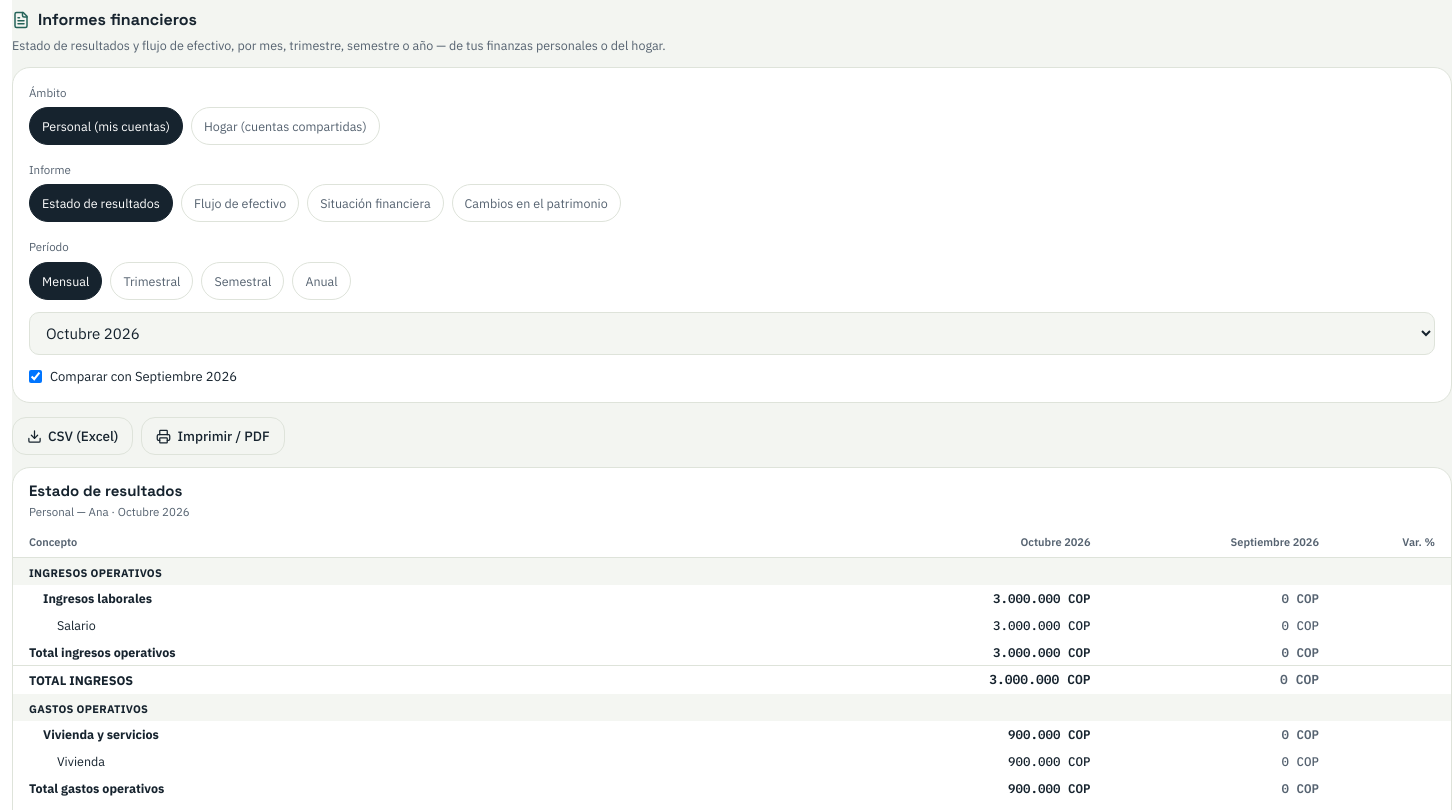
it: Informes (prueba de humo) › la situación financiera muestra activos, pasivos y patrimonio (incluye un activo registrado)
What coordinates should you click on to do the following:
click the button "Situación financiera"
I would click on:
 (375, 203)
Its box is [307,184,444,222].
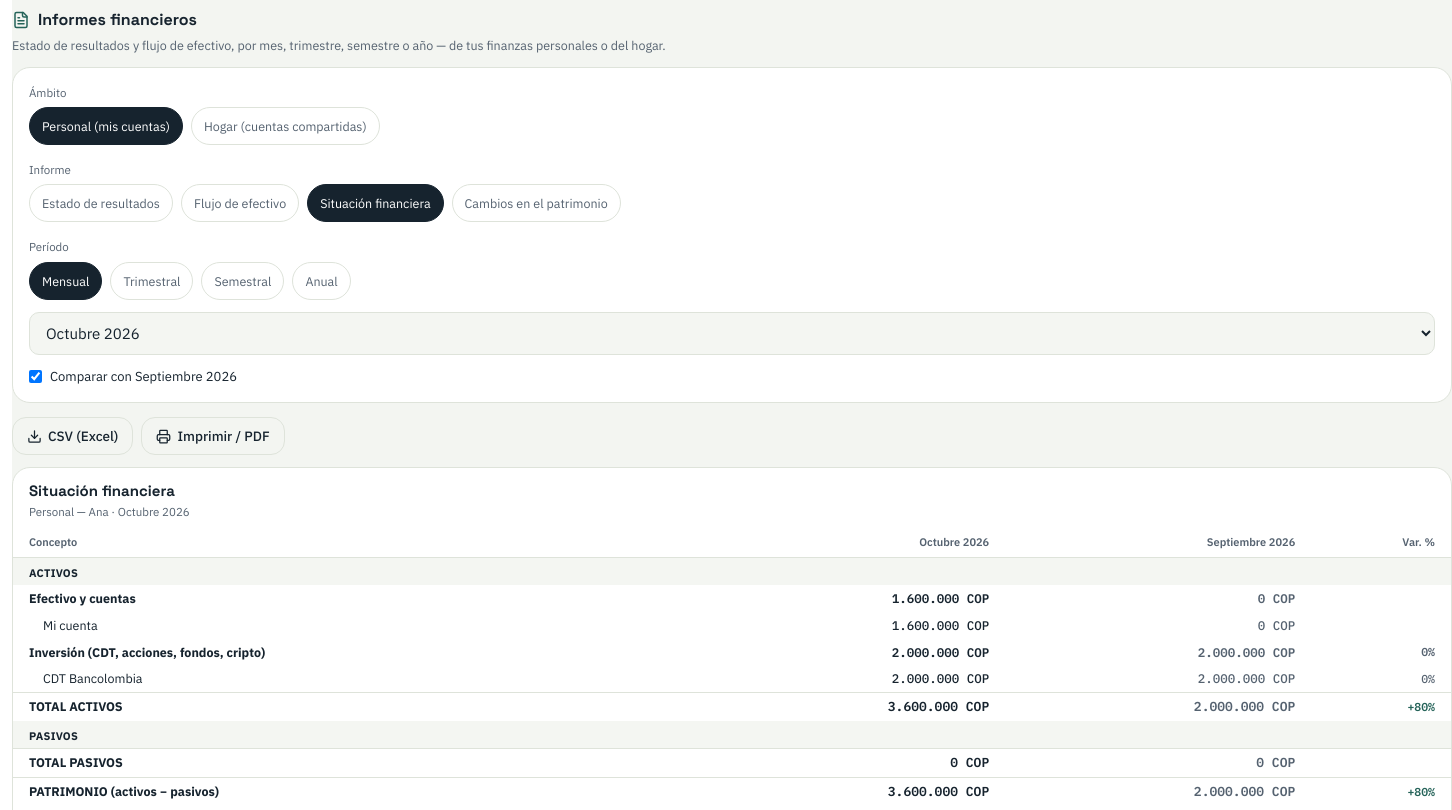
expect the text "TOTAL ACTIVOS" is shown: met, box [13,692,691,720]
expect the text "TOTAL PASIVOS" is shown: met, box [13,748,691,777]
expect the text "PATRIMONIO (activos − pasivos)" is shown: met, box [13,777,691,805]
